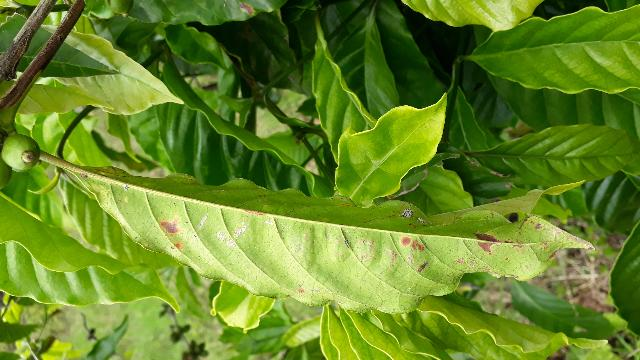rust_level_1: (69, 162, 594, 314)
